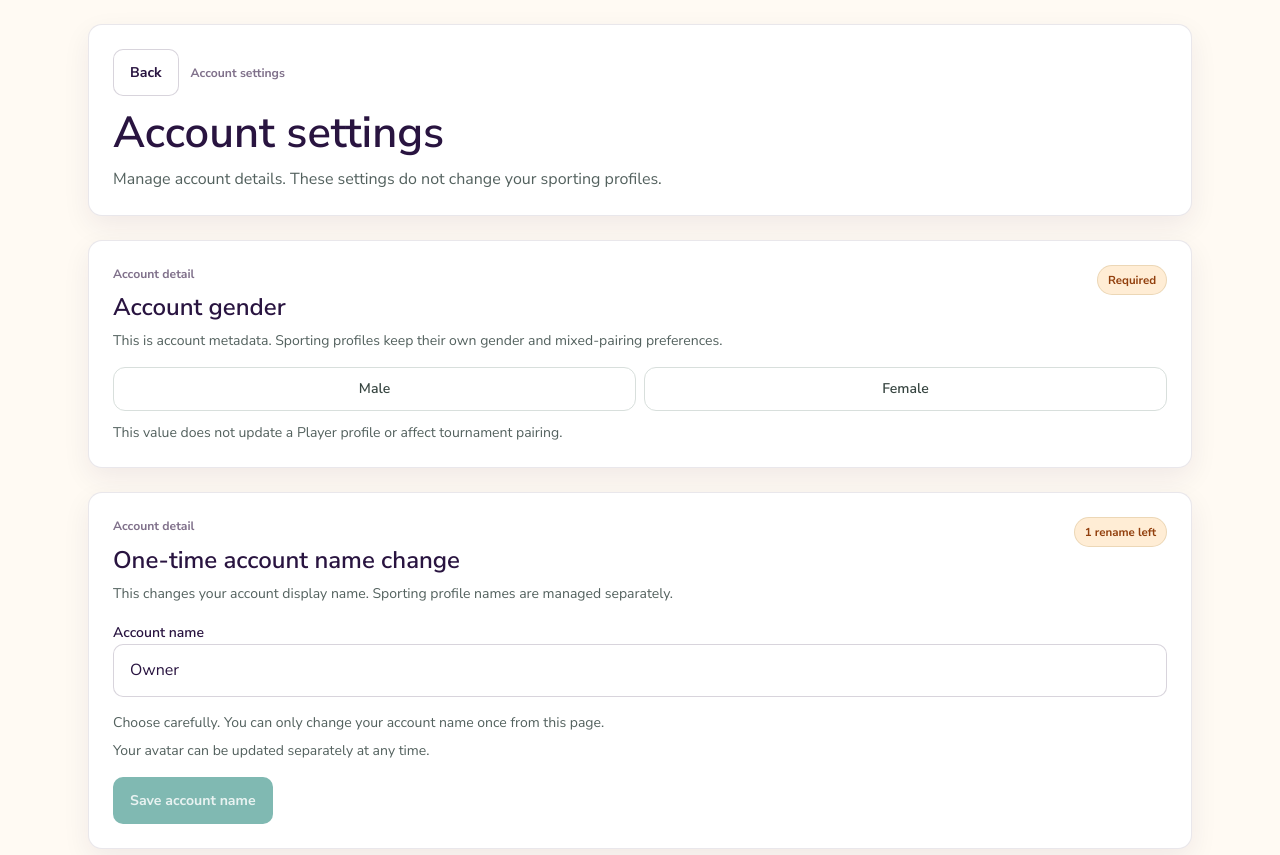
Test: settings page › lets a full account complete its missing account gender
Click the button "Female": point(906, 389) [644,367,1167,411]
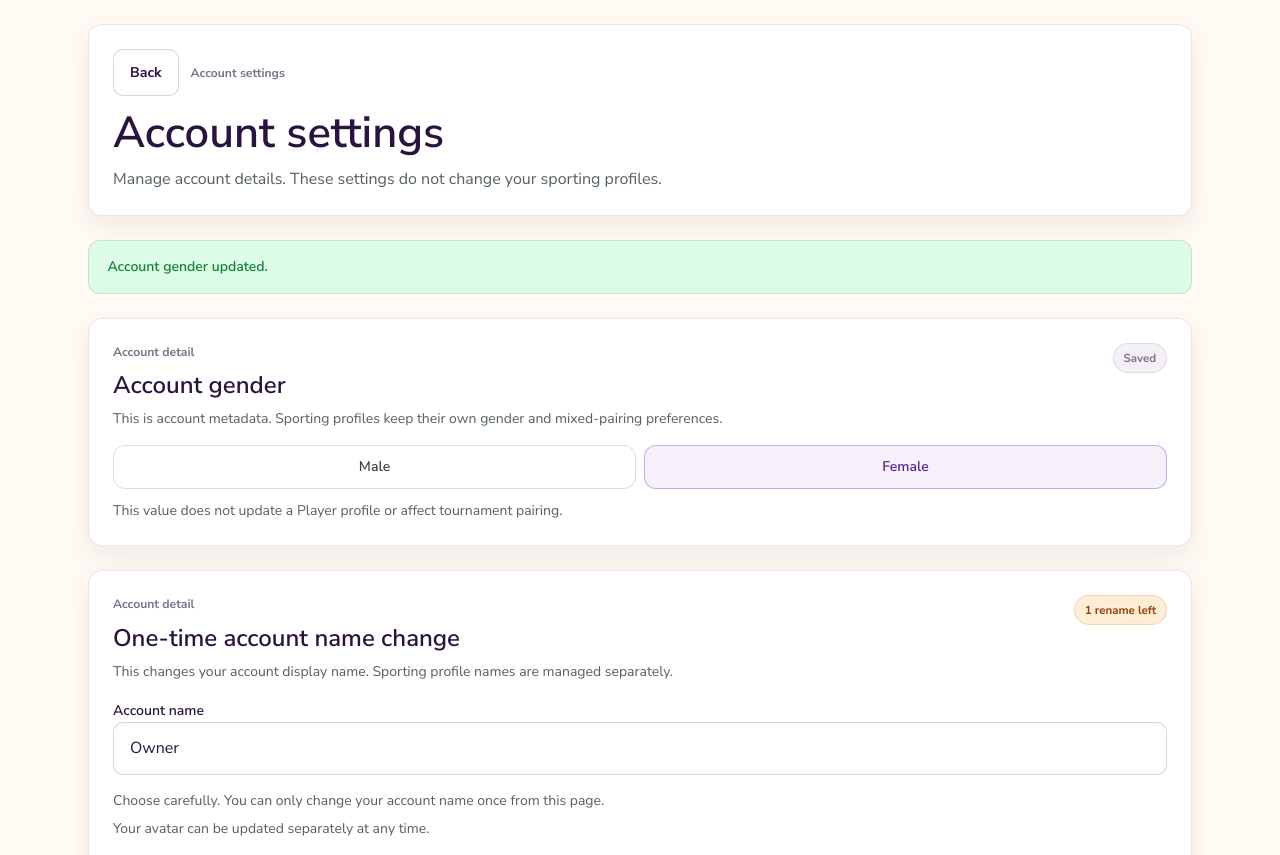
Expected: the text "Account gender updated." is shown, [88,240,1192,294]
